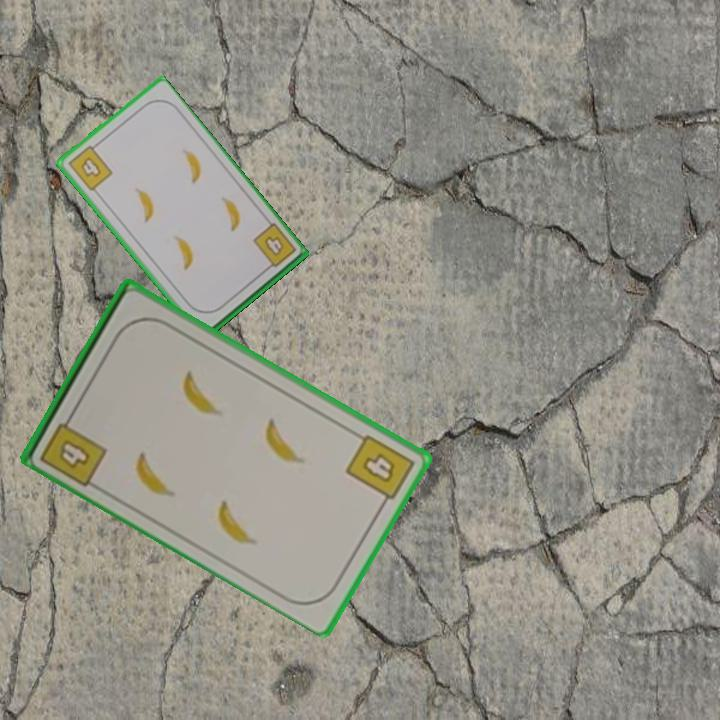4b: (342, 430, 418, 510), (36, 408, 110, 489), (64, 139, 116, 194), (249, 220, 299, 275)
